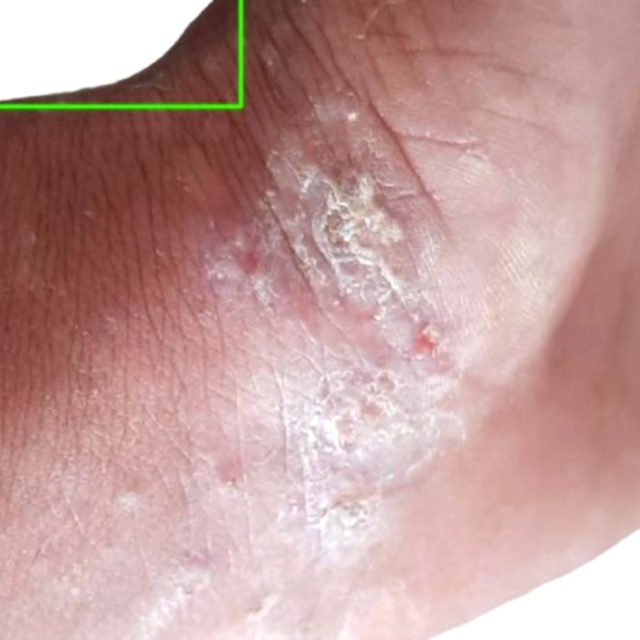Scabies: (0, 0, 241, 106)
